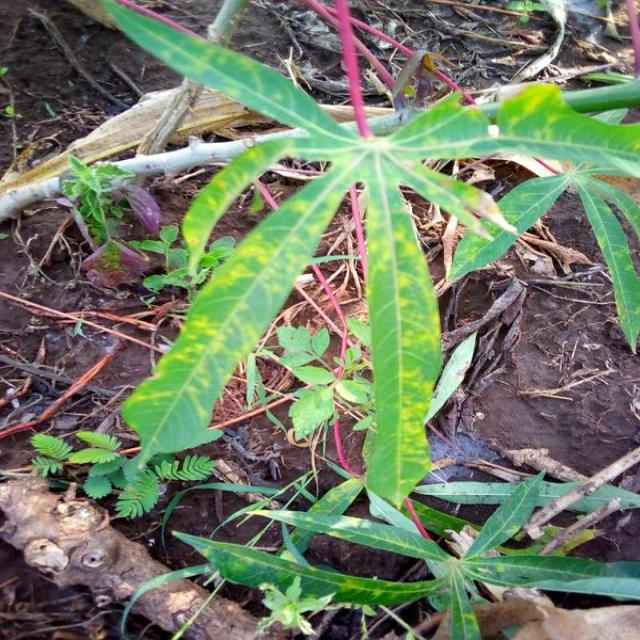cassava leaf: (87, 0, 639, 514), (120, 148, 362, 474)
